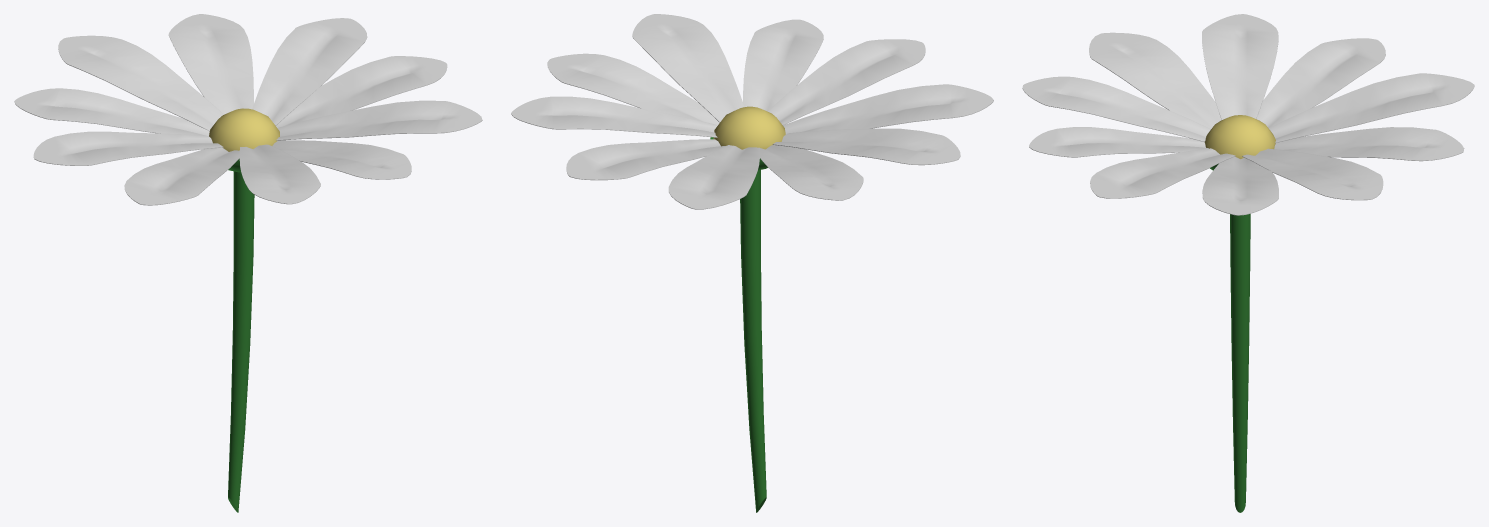
The model's file is flower.FBX.
The picture shows the model from 3 angles, left to right: view 1: azimuth 30°, elevation 25°; view 2: azimuth 150°, elevation 25°; view 3: azimuth 270°, elevation 25°; orthographic projection.
Parts seen in each view (by area): view 1: Line03, Line05, Line04, Cylinder02, Line07, Line06, Line02, Line01, Line10, Line08, Line09, Sphere01; view 2: Line07, Cylinder02, Line09, Line10, Line06, Line05, Line08, Line01, Line04, Line03, Line02, Sphere01; view 3: Line03, Line01, Line10, Line02, Cylinder02, Line09, Line04, Line05, Line07, Line08, Line06, Sphere01.
Part boxes in pixels (x1,y1,x2,y2): Line03: (58,35,223,130); Line05: (252,18,367,125); Line04: (168,14,253,114); Cylinder02: (228,171,254,512); Line07: (276,100,482,140); Line06: (276,56,447,128); Line02: (14,88,209,135); Line01: (33,131,223,165); Line10: (124,147,239,205); Line08: (272,140,411,179); Line09: (239,144,320,204); Sphere01: (209,108,279,151); Line07: (632,14,744,122); Cylinder02: (740,170,766,512); Line09: (768,39,925,125); Line10: (783,84,993,134); Line06: (547,53,719,132); Line05: (511,96,717,137); Line08: (743,19,823,111); Line01: (772,128,960,165); Line04: (566,139,725,180); Line03: (668,145,759,209); Line02: (760,145,863,200); Sphere01: (713,106,785,149); Line03: (1269,73,1474,143); Line01: (1202,14,1278,119); Line10: (1089,32,1221,128); Line02: (1256,38,1385,128); Cylinder02: (1230,214,1250,512); Line09: (1022,76,1210,141); Line04: (1274,127,1464,161); Line05: (1242,148,1383,200); Line07: (1090,148,1235,198); Line08: (1029,127,1208,157); Line06: (1202,155,1278,215); Sphere01: (1204,115,1275,158).
Size of the model in its own units: 23.06 by 21.64 by 22.12.
